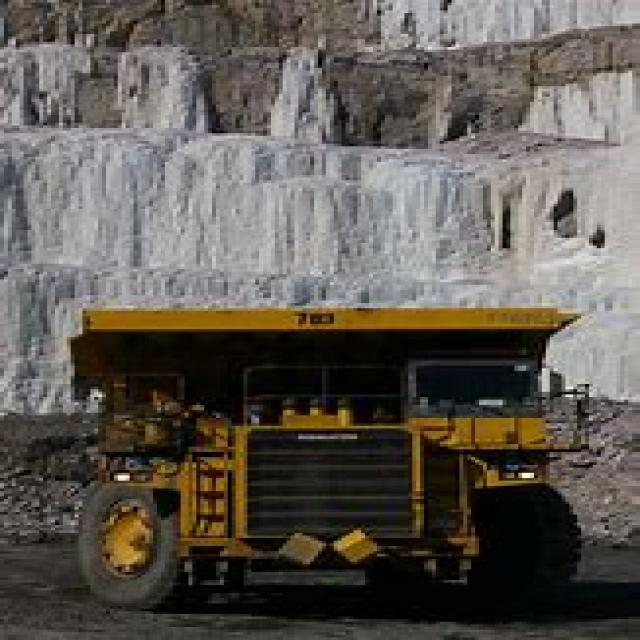dump_truck: (67, 280, 593, 619)
